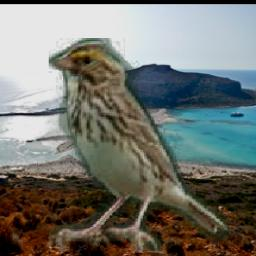Sparrow: (50, 39, 230, 254)
